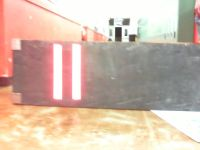switch: (52, 43, 63, 101), (71, 43, 82, 101)
